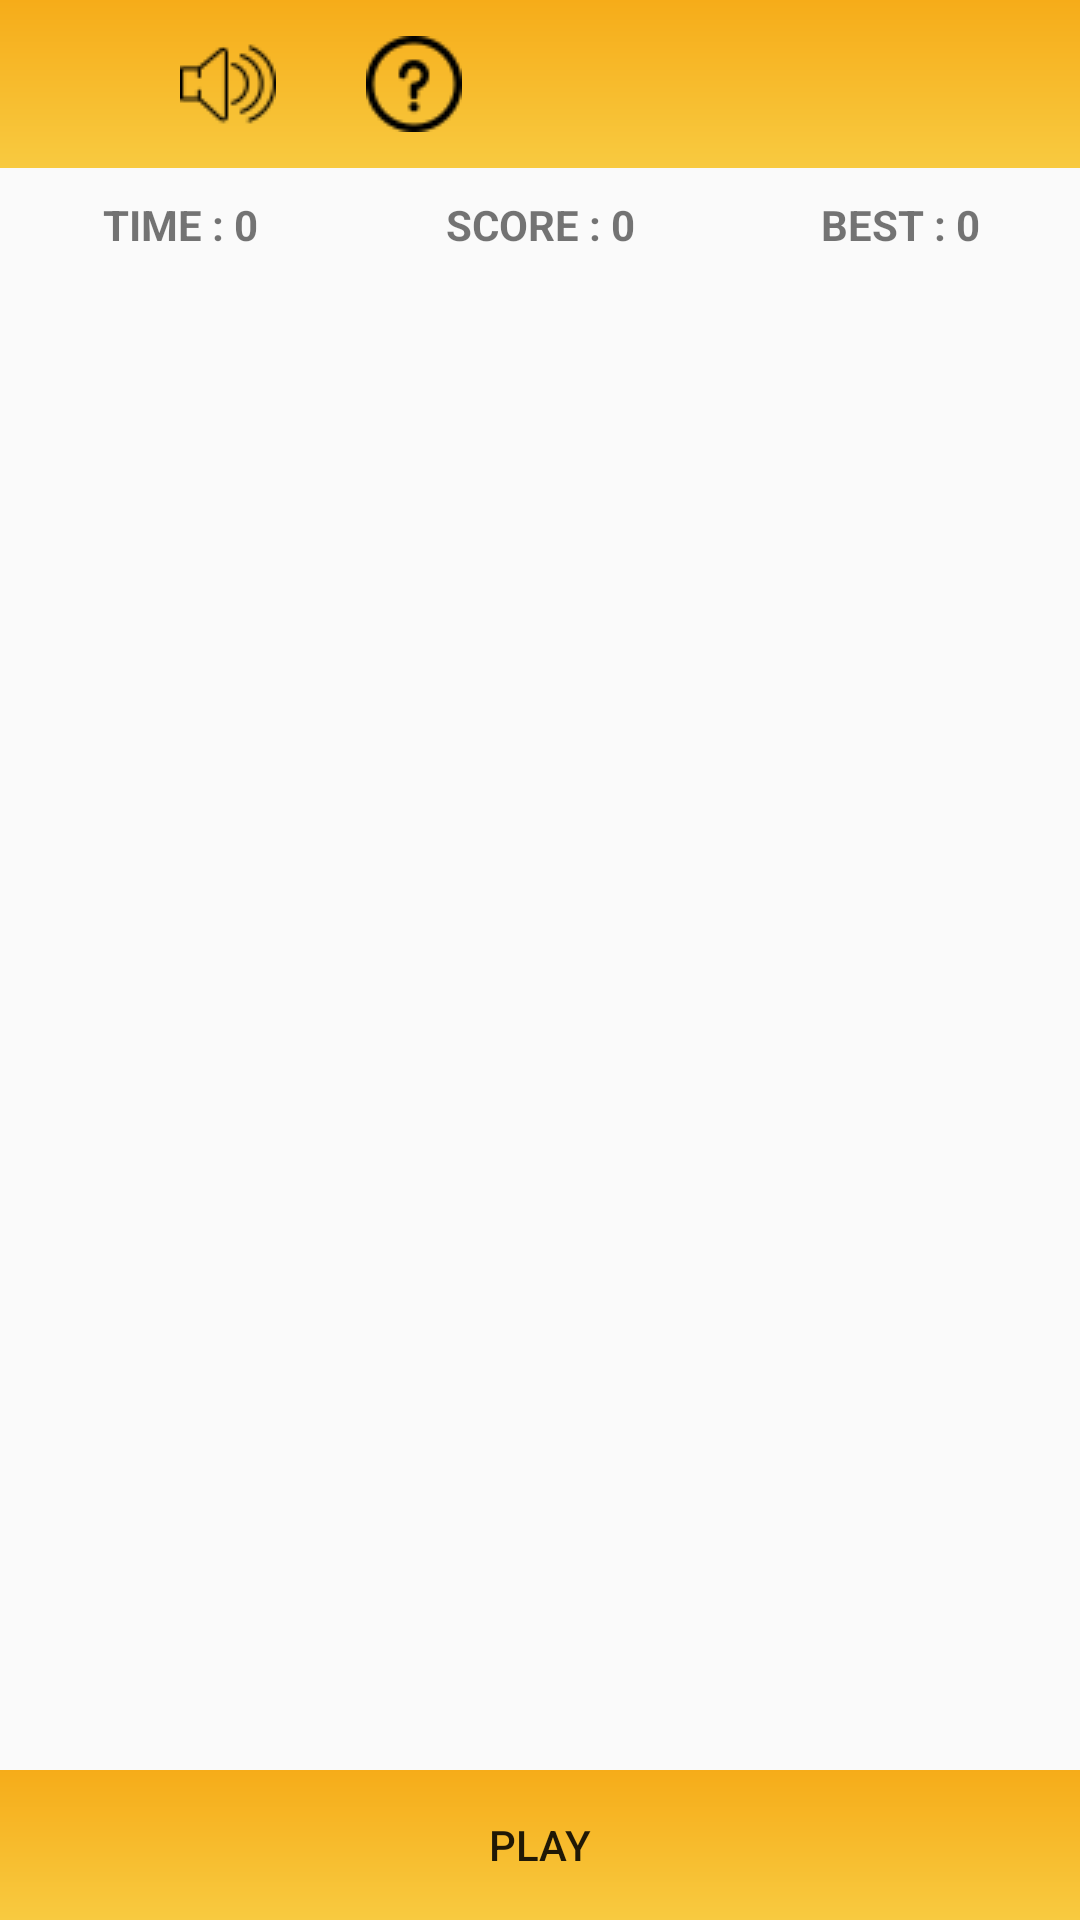

Screen size 1080px×1920px. Icon name, then its box in pixels as (x1, y1, x2, y2):
speaker: (180, 44, 276, 132)
